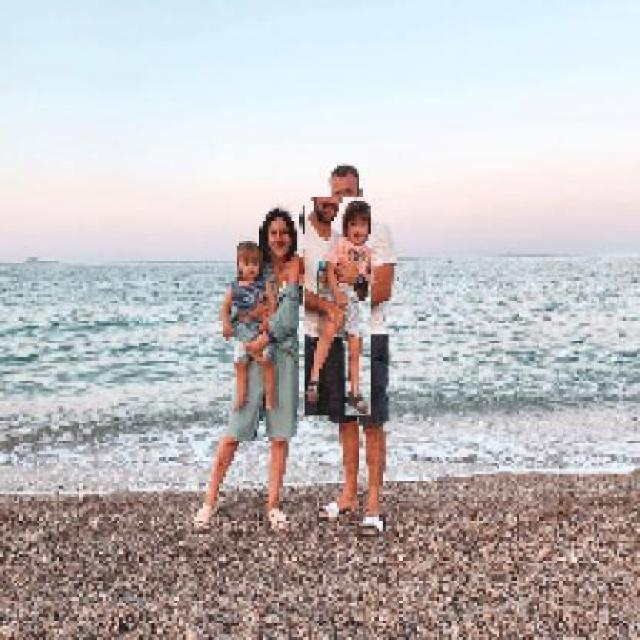child: (303, 197, 371, 417), (222, 239, 278, 412)
